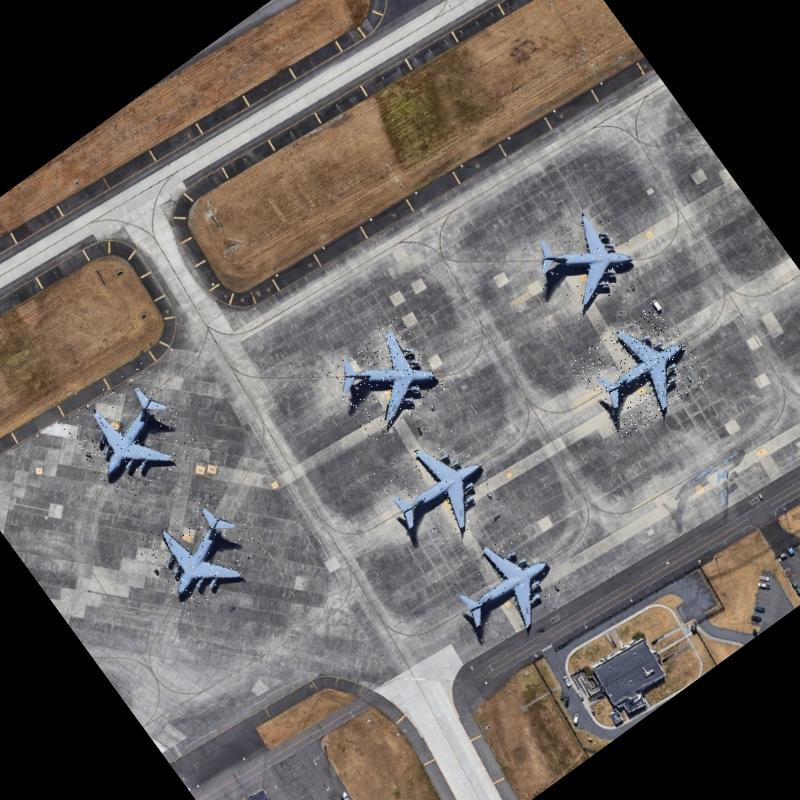A3: (56, 361, 202, 508), (566, 300, 712, 442), (366, 418, 509, 560), (432, 518, 574, 660), (134, 482, 270, 617), (514, 194, 648, 326), (320, 315, 448, 443)
